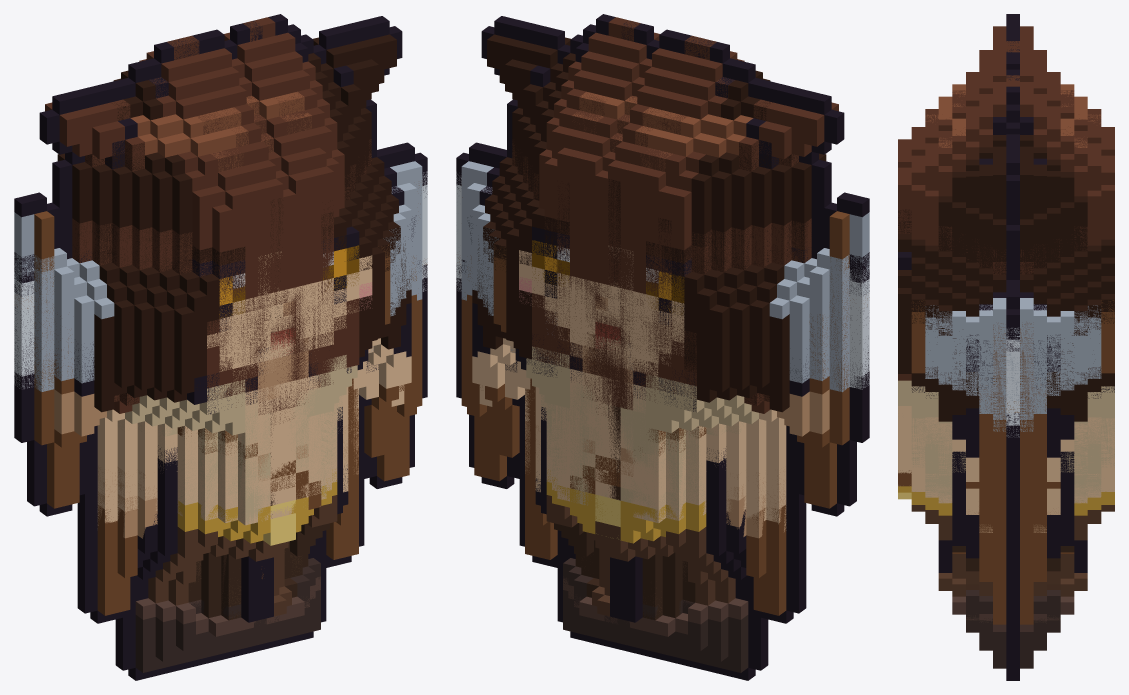
File: barbarian.glb
The picture shows the model from 3 angles, left to right: view 1: azimuth 30°, elevation 25°; view 2: azimuth 150°, elevation 25°; view 3: azimuth 270°, elevation 25°; orthographic projection. The views are drawn at different scales.
Visible parts, largest first — view 1: f0, f1, f7, f9, f14, f8, f2, f13, f6, f11, f15, f4 (+3 smaller); view 2: f0, f1, f7, f9, f14, f8, f2, f13, f6, f11, f4, f15 (+3 smaller); view 3: f0, f1, f6, f2, f8, f14, f4, f16, f9, f11, f7, f20.
Boxes of the visible parts, x1,y1,x2,y2 form: f0: (39,14,427,677); f1: (39,17,427,619); f7: (14,39,376,602); f9: (14,191,363,680); f14: (52,29,333,661); f8: (14,144,376,623); f2: (82,142,427,659); f13: (14,192,320,516); f6: (245,153,427,509); f11: (21,290,363,658); f15: (52,152,378,379); f4: (80,163,426,672); f0: (456,14,844,677); f1: (456,18,844,619); f7: (507,40,869,602); f9: (520,173,869,680); f14: (546,29,831,659); f8: (507,148,869,623); f2: (456,142,801,659); f13: (608,192,869,516); f6: (456,153,658,538); f11: (519,300,861,658); f4: (456,163,804,674); f15: (505,153,831,399); f0: (898,14,1114,617); f1: (898,53,1114,636); f6: (925,310,1101,598); f2: (911,281,1114,680); f8: (898,221,1114,532); f14: (898,41,1114,167); f4: (898,251,1113,629); f16: (938,552,1087,614); f9: (966,497,1101,638); f11: (898,412,1114,472); f7: (898,209,1114,496); f20: (966,313,1060,488).
Bounding box in the file's own units: 2 × 2.94 × 1.
